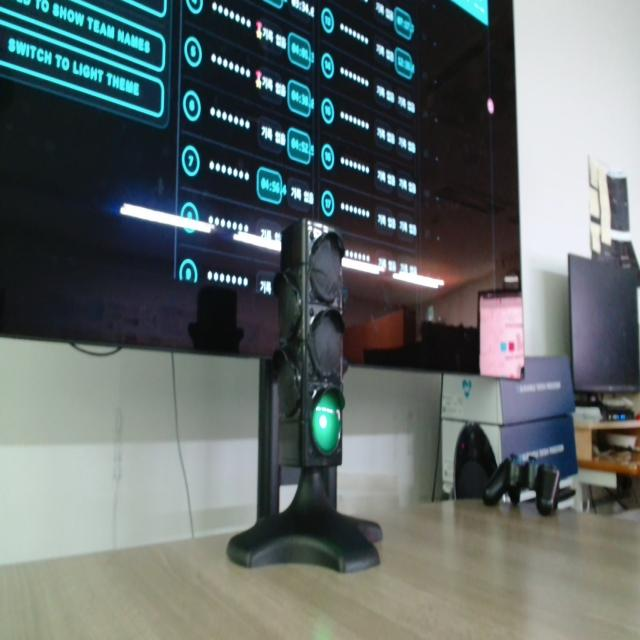green_light: (312, 391, 344, 455)
